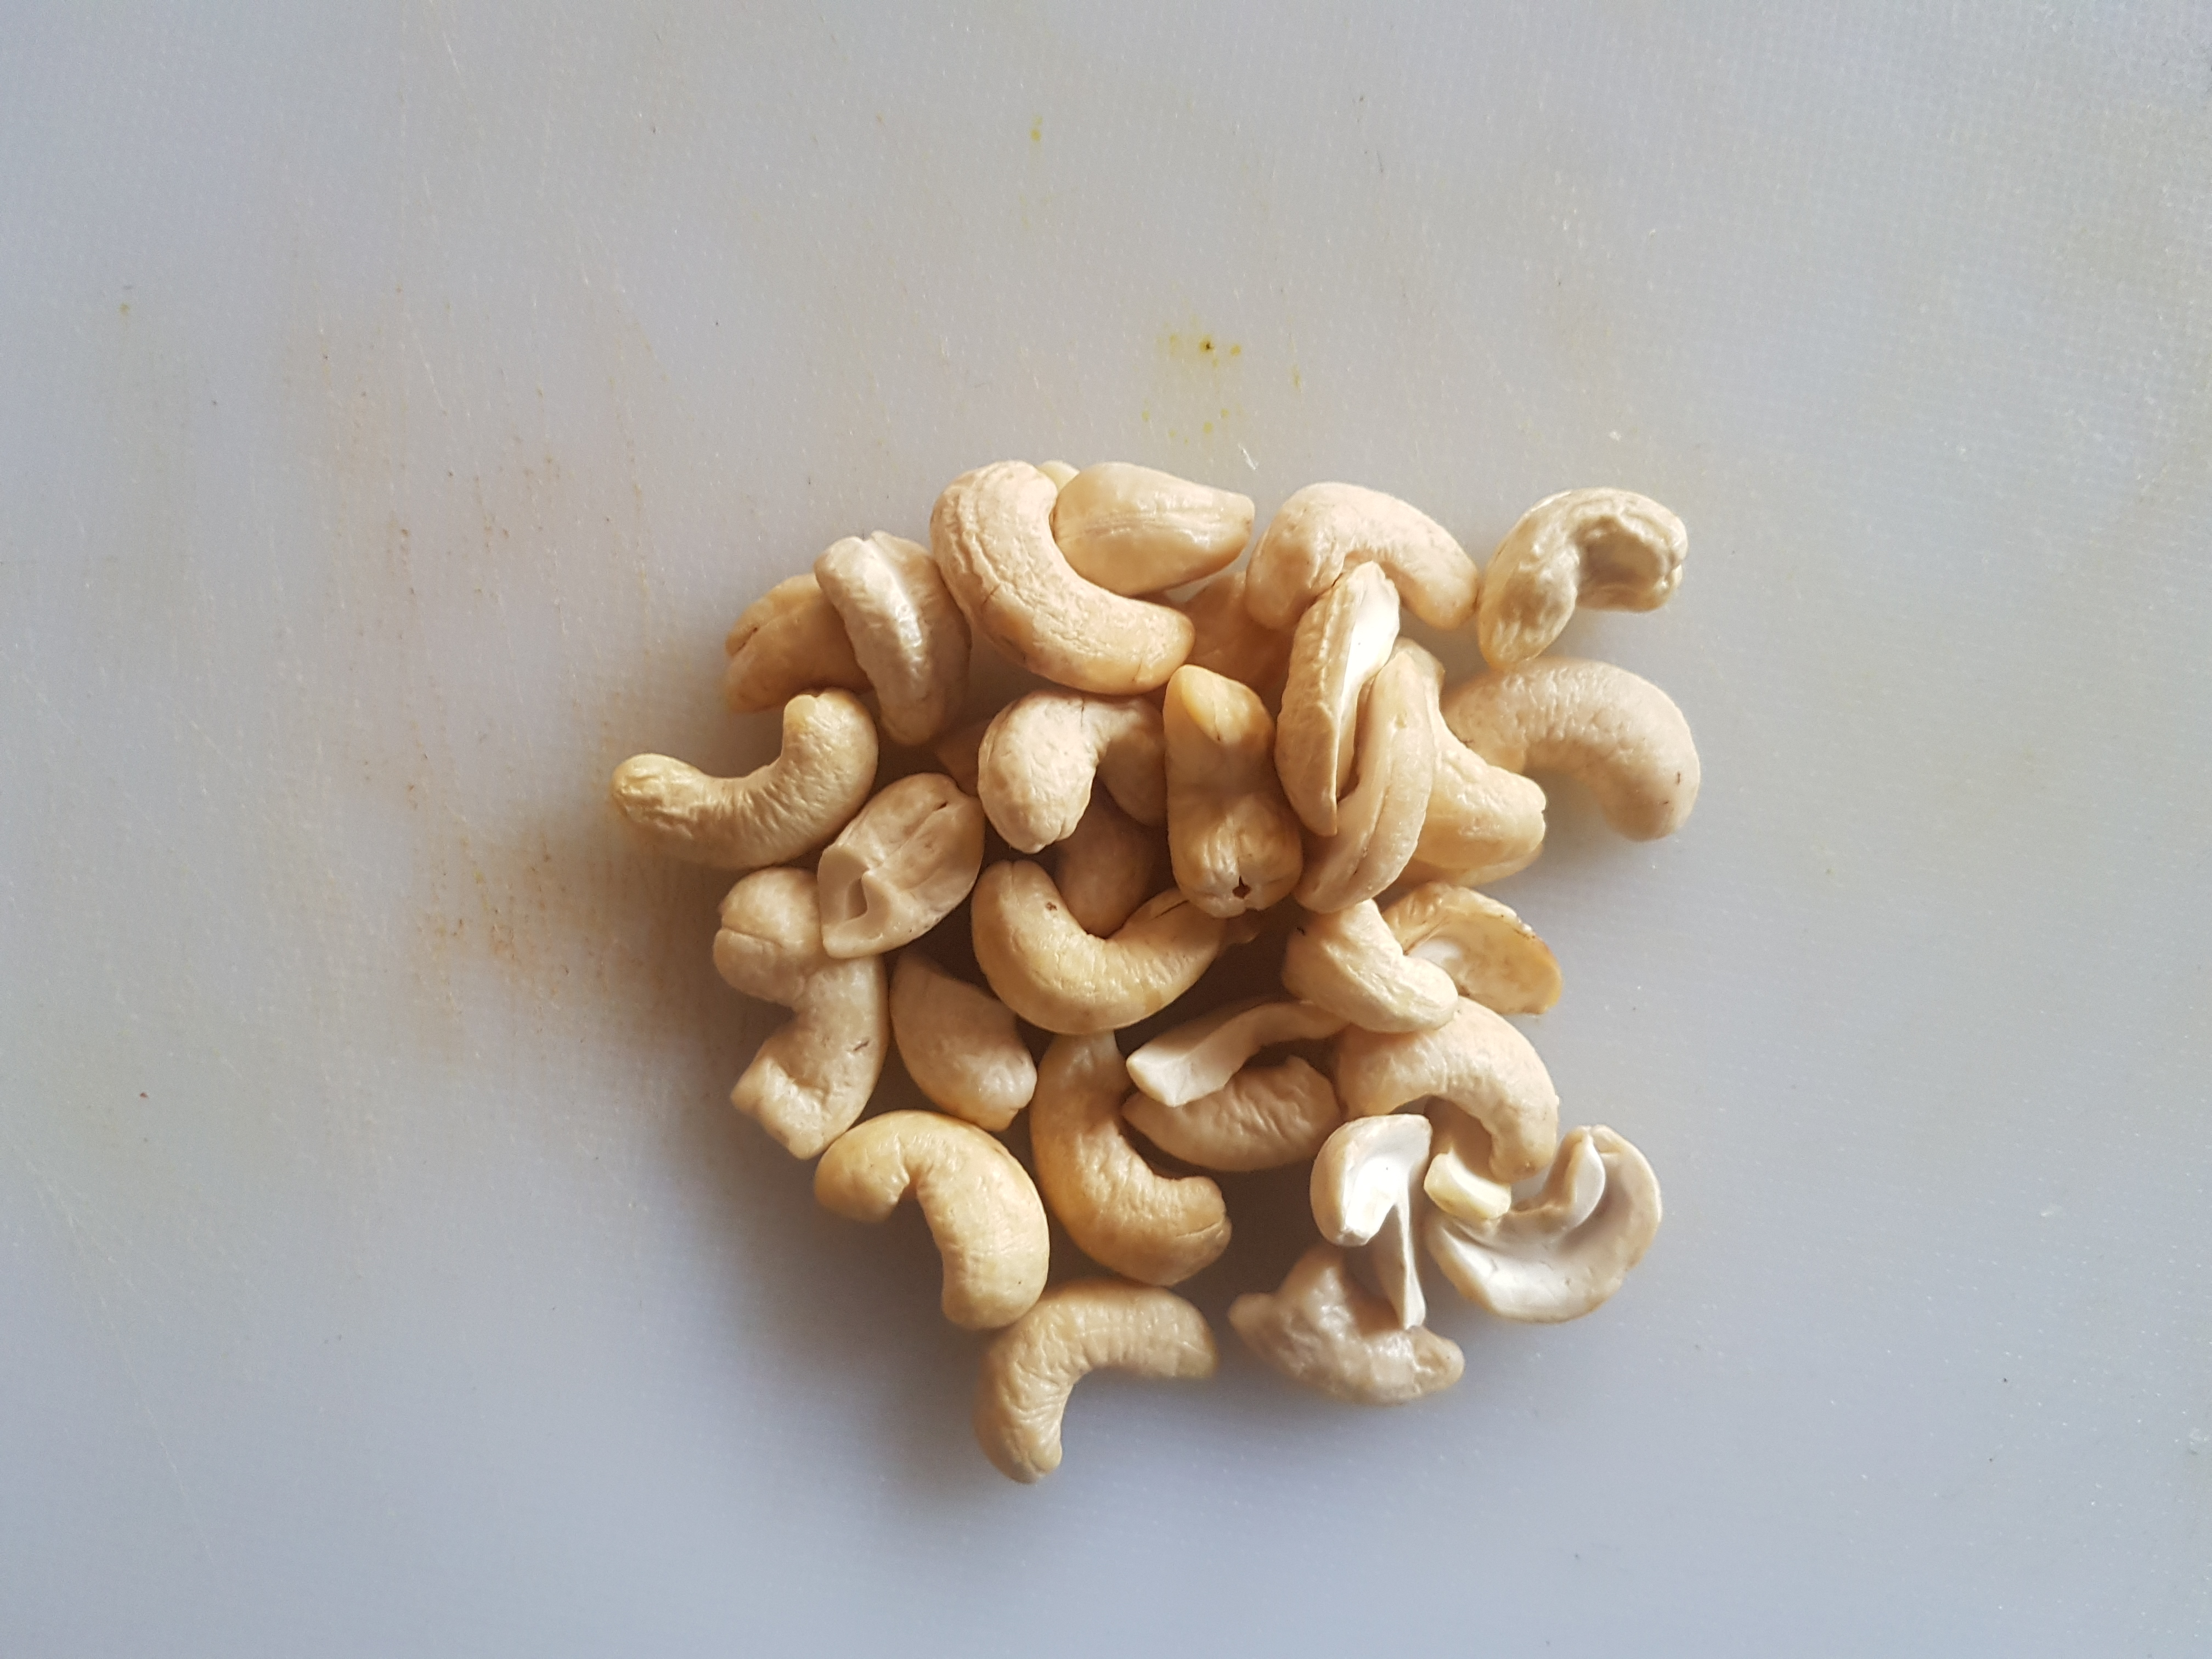Cashew: (582, 460, 1778, 1535)
